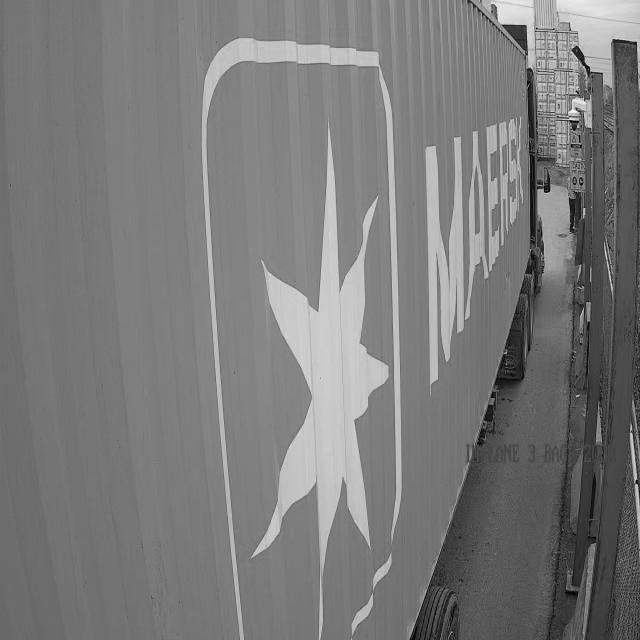container_company_logo: (412, 98, 528, 421)
other_container_info: (0, 0, 539, 639)
